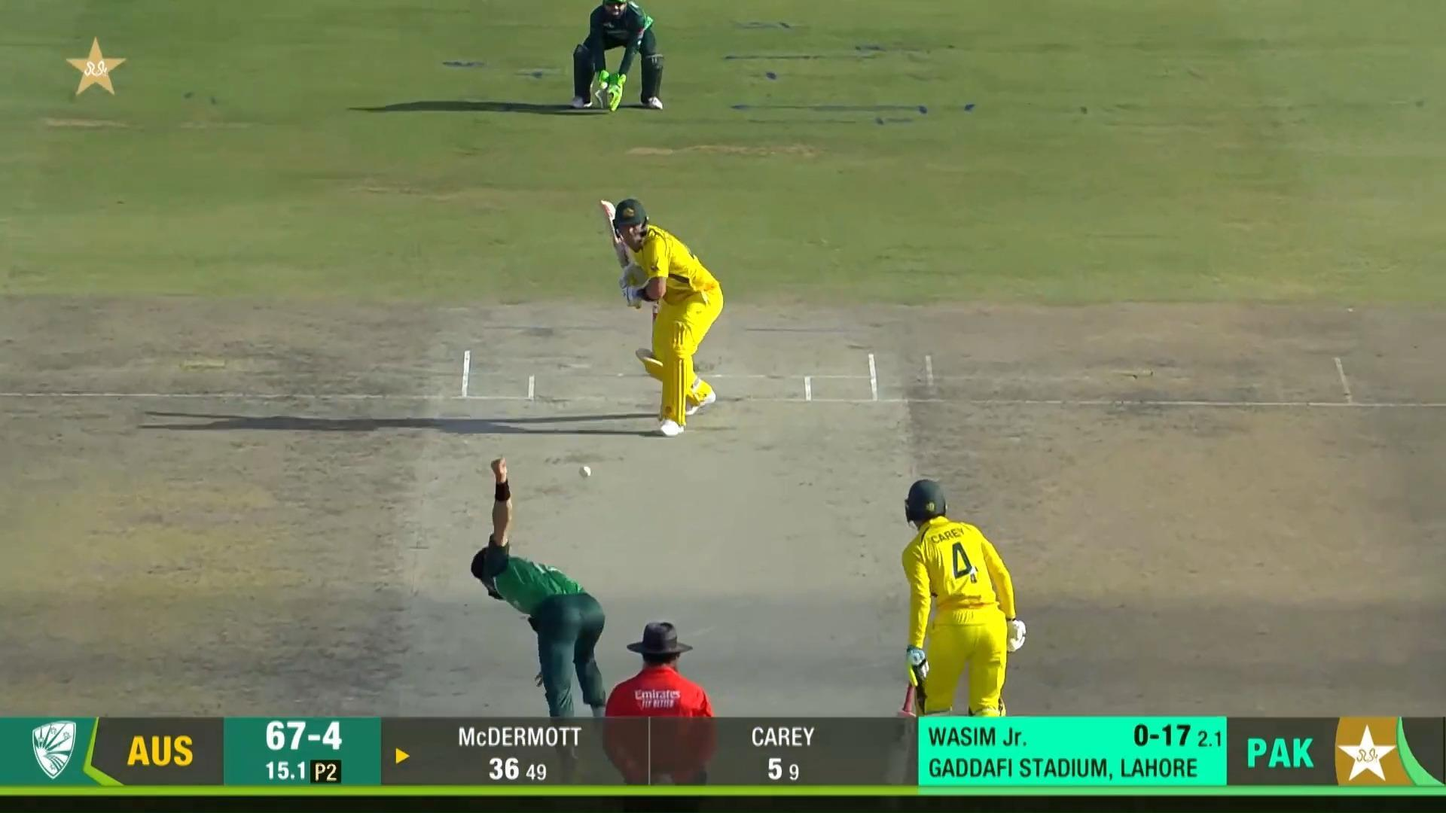BM 1: (599, 197, 726, 439)
BO: (469, 456, 609, 779)
